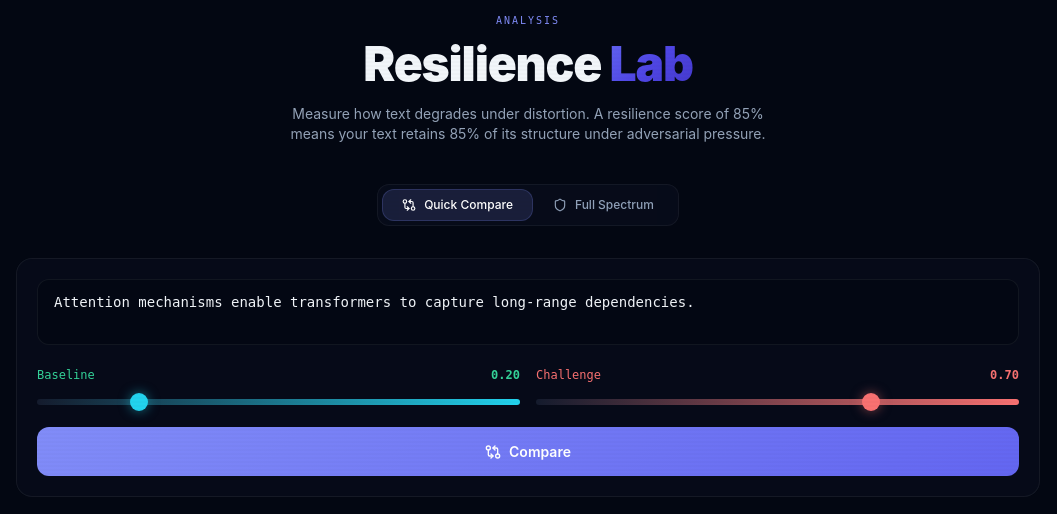
Scenario: ResilienceLab Component › switches to Full Spectrum tab and back to Quick Compare
Click the button "Full Spectrum".
click(603, 205)  # box 533,189 -> 674,221
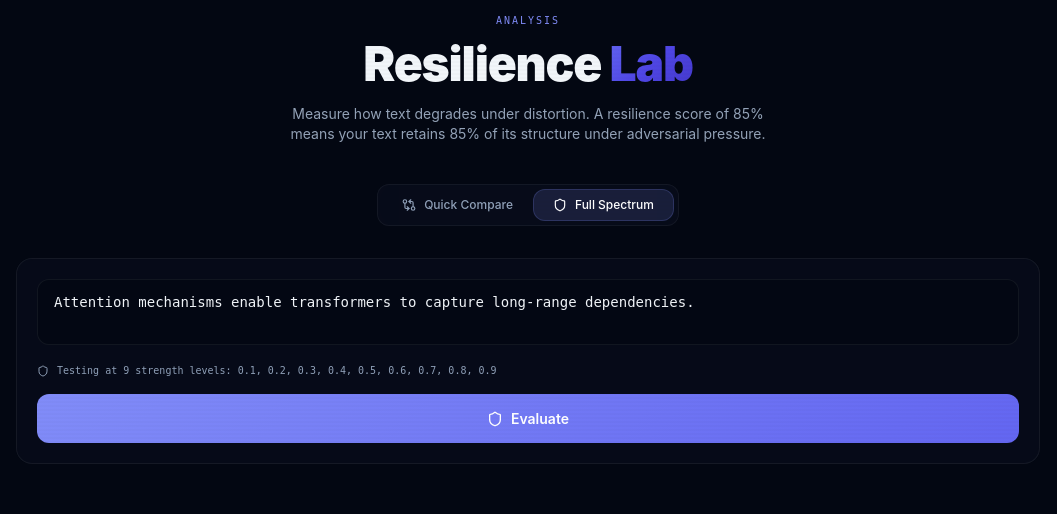
Check: the text "Testing at 9 strength levels" is shown, box 37,364 -> 496,376
Check: the button "Evaluate" is shown, box 37,394 -> 1019,443
Click the button "Quick Compare".
click(458, 205)  # box 382,189 -> 533,221
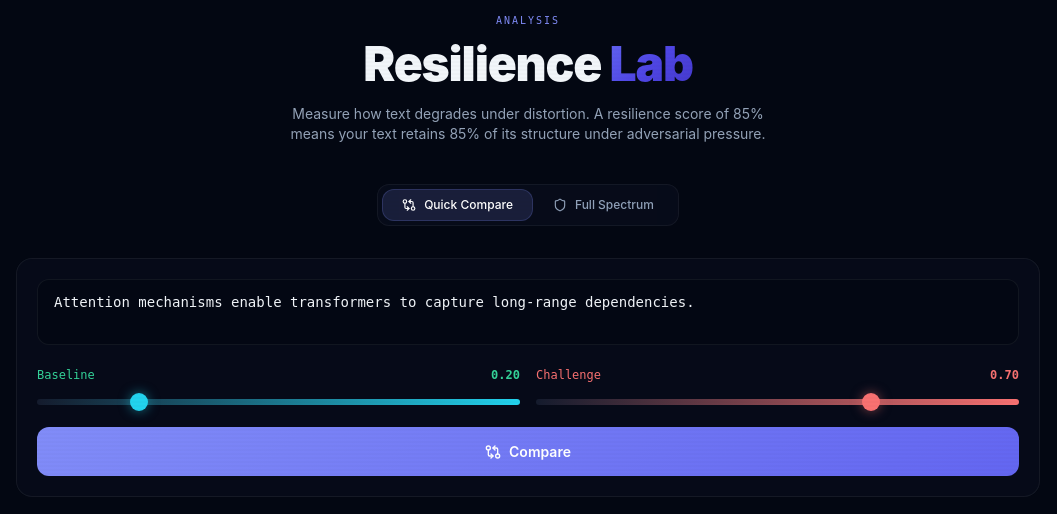
Check: the text "Baseline" is shown, box 37,367 -> 95,383
Check: the text "Challenge" is shown, box 536,367 -> 601,383
